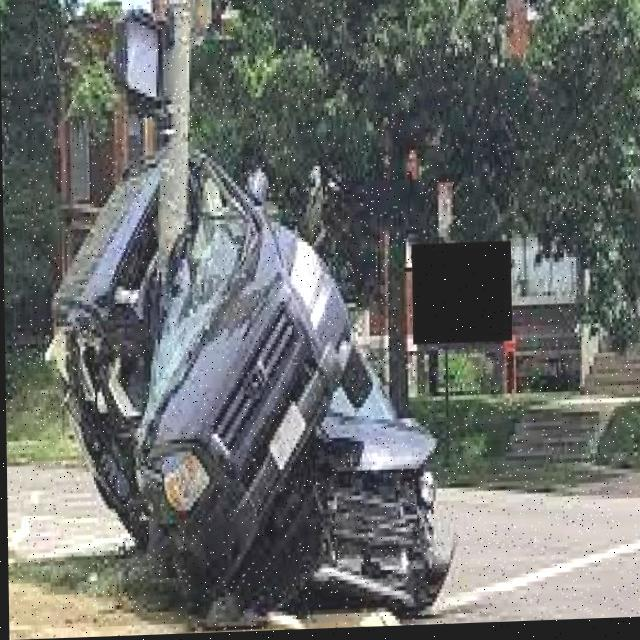multiple_accident: (29, 122, 445, 621)
